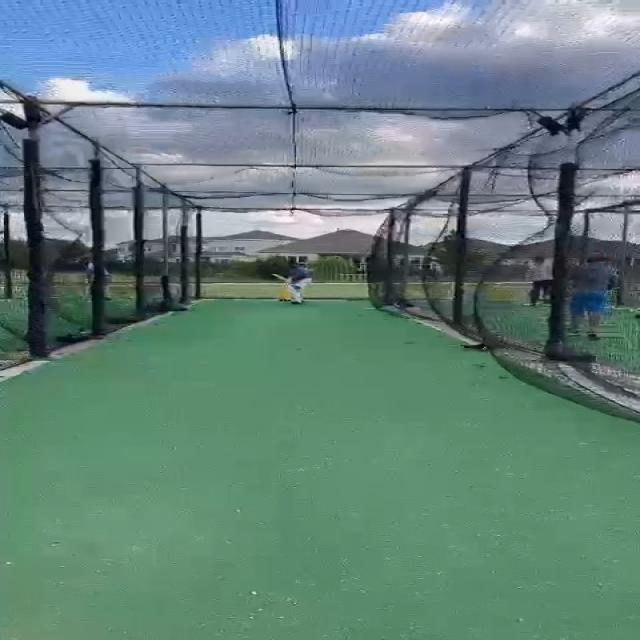batsman: (271, 258, 316, 305)
